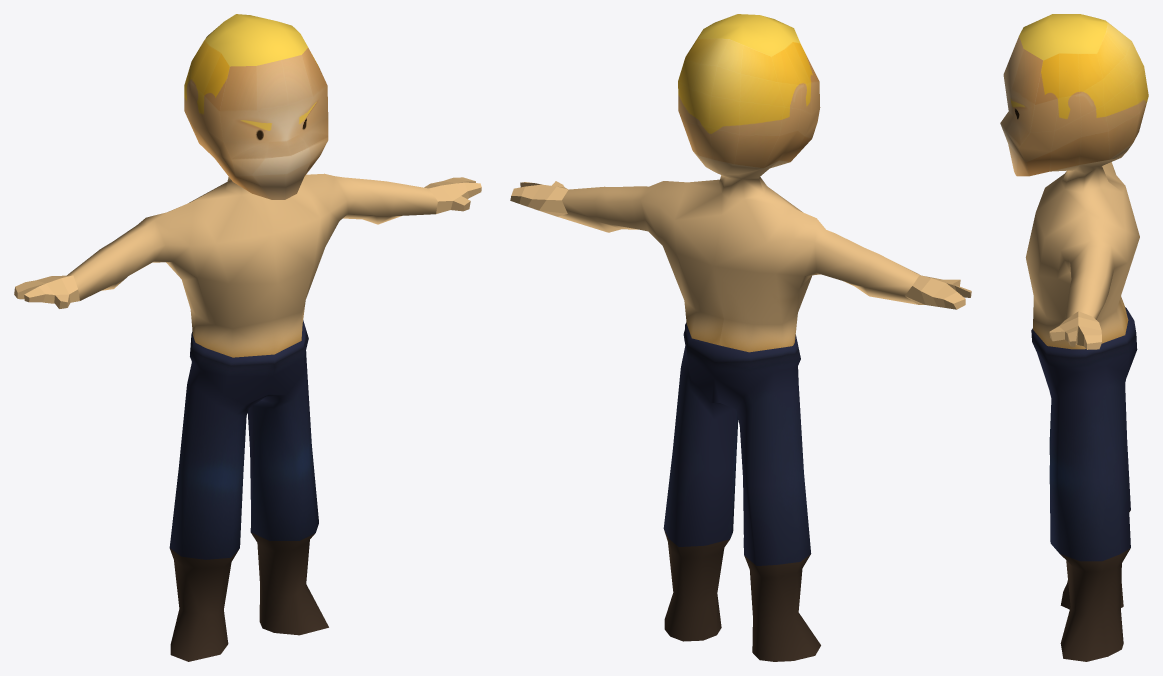
File: corpbig.FBX
3 views of the same model, side by side, from view 1: azimuth 30°, elevation 25°; view 2: azimuth 150°, elevation 25°; view 3: azimuth 270°, elevation 25° (orthographic). The views are drawn at different scales.
Parts seen in each view (by area): view 1: Box001; view 2: Box001; view 3: Box001.
Boxes of the visible parts, <box> form: Box001: <box>14,14,481,661</box>; Box001: <box>510,14,971,661</box>; Box001: <box>1000,14,1148,661</box>.
Size of the model in its own units: 61.26 by 79.08 by 17.56.
Materials: 1 (1 with a texture image).
